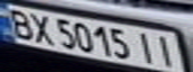0: (69, 20, 93, 53)
1: (90, 22, 112, 56)
5: (51, 16, 78, 51), (109, 25, 133, 61)
B: (3, 6, 39, 39)
I: (151, 33, 181, 69), (133, 29, 160, 65)
X: (24, 11, 57, 46)
